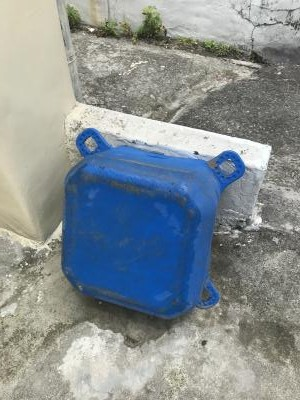box: (59, 146, 219, 322)
